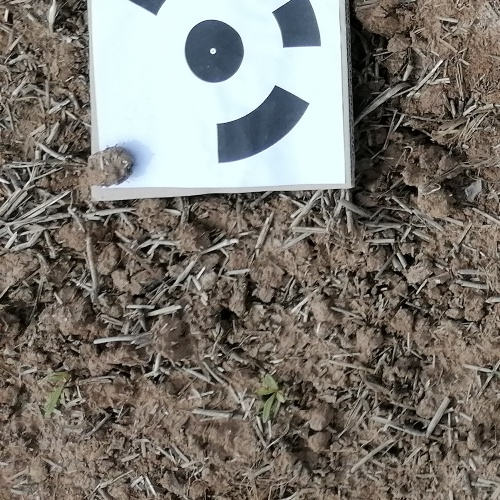beet: (253, 378, 285, 425), (46, 369, 75, 416)
